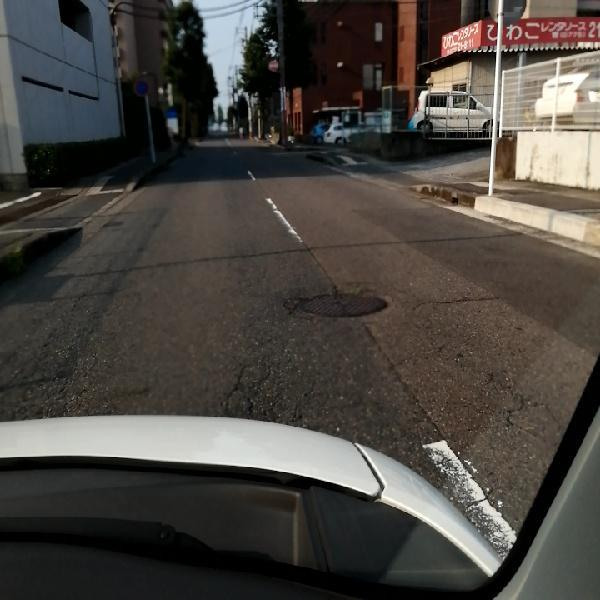D00: (436, 346, 548, 459)
D10: (415, 288, 506, 312)
D20: (221, 349, 325, 423)
D44: (263, 194, 303, 240)
D50: (287, 290, 388, 319)
